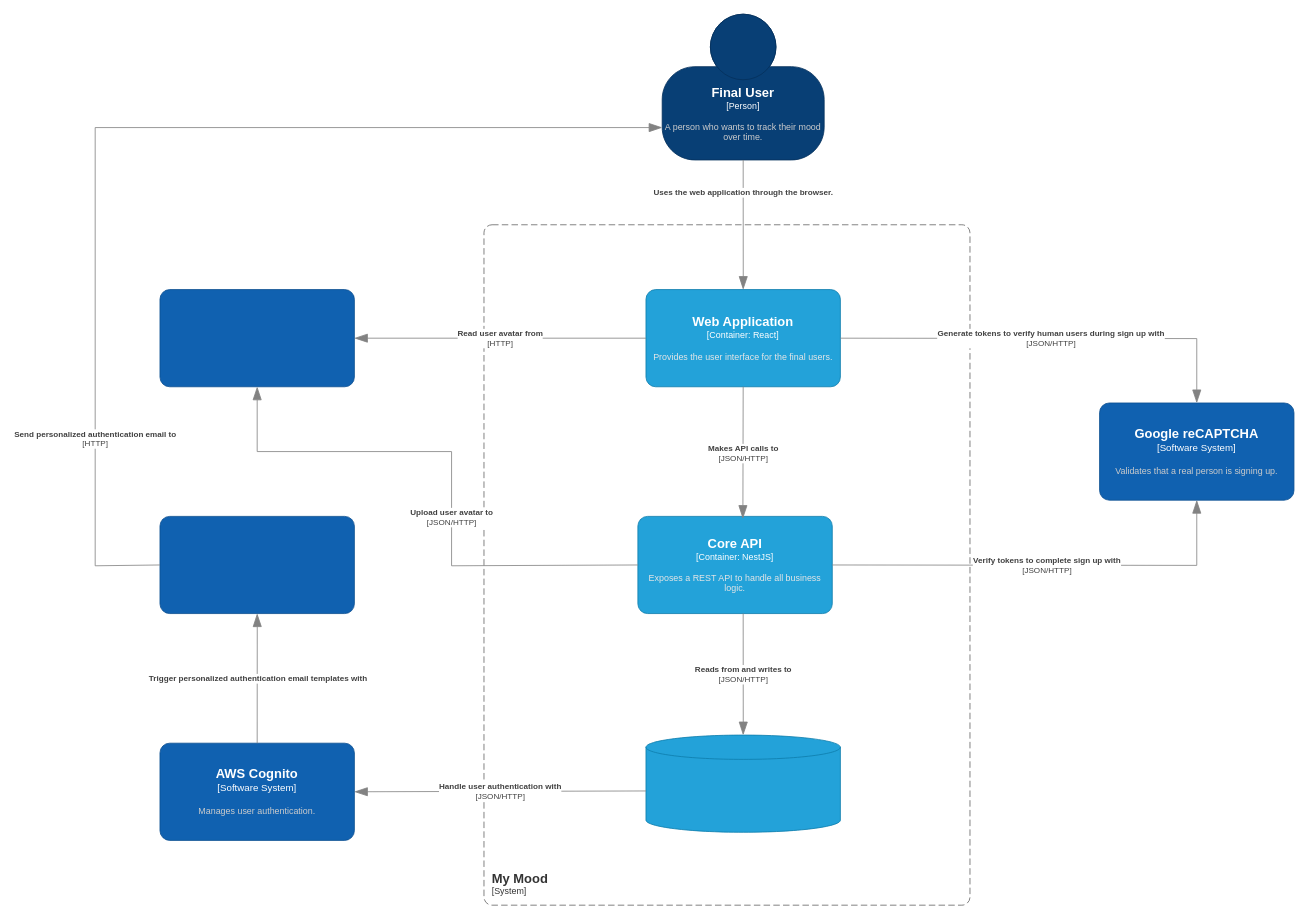
Some shapes in this 1308 by 919 pixel diagram are drawn without their labels. The centre of each missing label's shape, as x and y in pixels:
"AWS S3 [Software System] Stores and retrieves user-uploaded images." belongs at point 256,338.
"AWS SES [Software System] Sends automated emails." belongs at point 256,565.
"Relational Database [Container: MySQL] Stores My Mood's resources." belongs at point 742,783.
